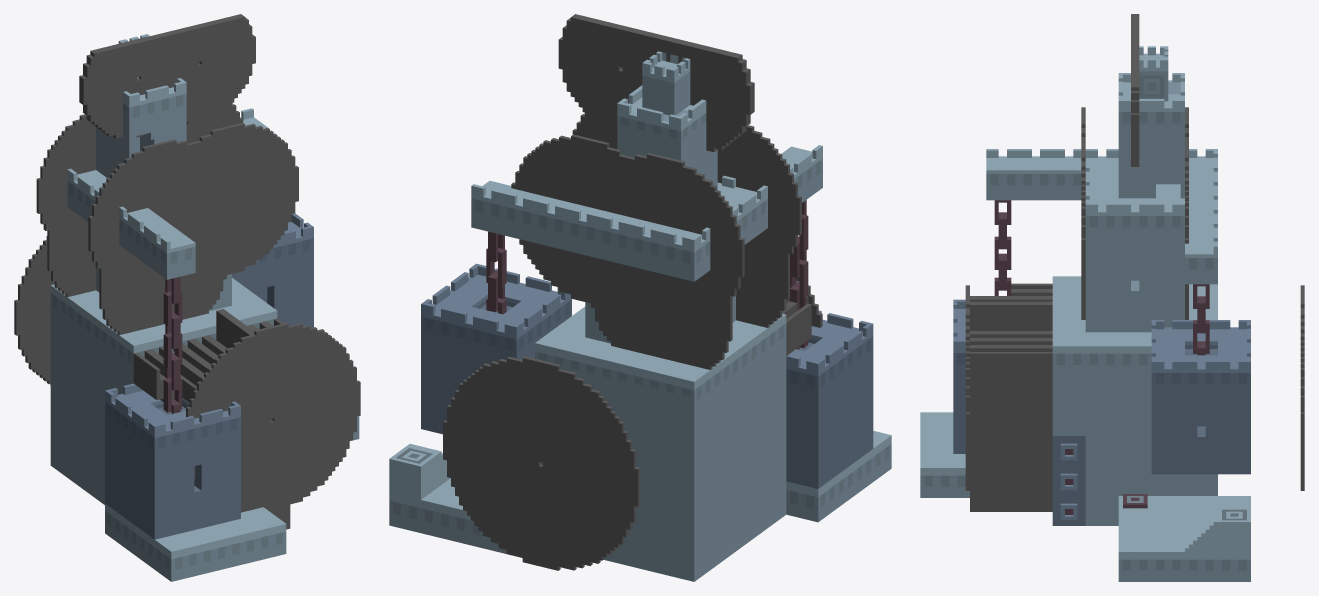
File: monu1.obj
3 renders of one model, left to right at view 1: azimuth 30°, elevation 25°; view 2: azimuth 150°, elevation 25°; view 3: azimuth 270°, elevation 25°, orthographic. The views are drawn at different scales.
Visible parts, largest first — view 1: monu1; view 2: monu1; view 3: monu1.
Part boxes in pixels (x1,y1,x2,y2): monu1: [14, 14, 360, 581]; monu1: [389, 14, 891, 581]; monu1: [920, 14, 1304, 581].
Size of the model in its own units: 80 by 118 by 93.
Materials: 1 (1 with a texture image).
